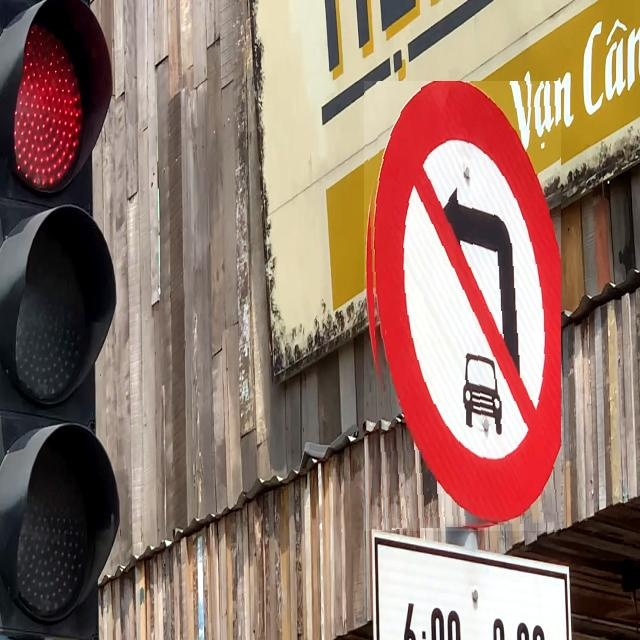bien_cam: (364, 81, 561, 532)
